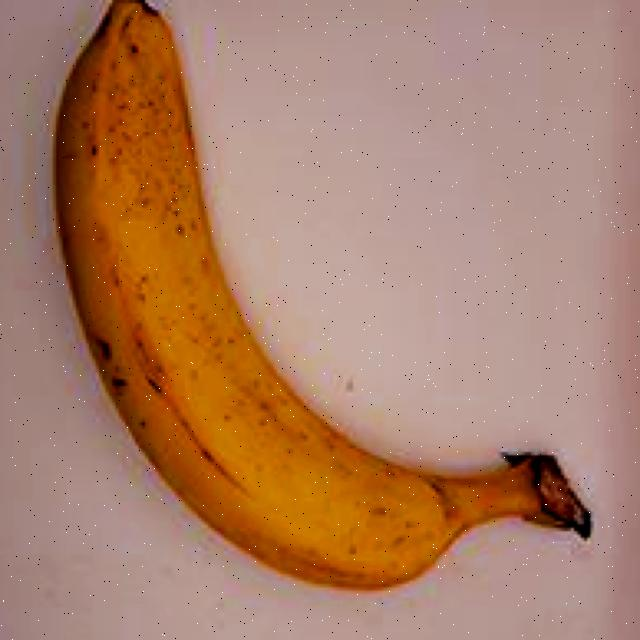Overripe: (17, 1, 610, 590)
